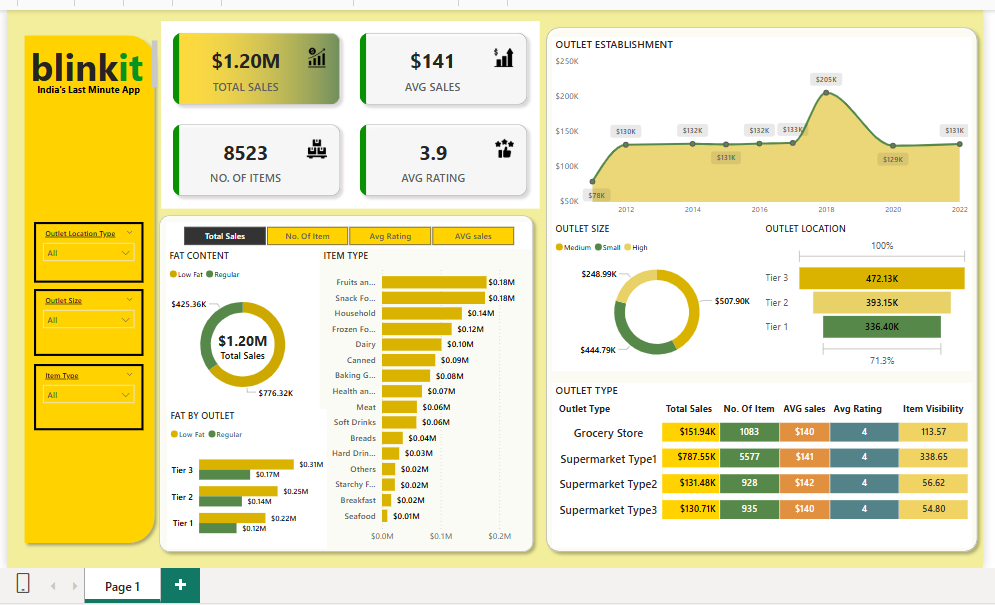

The page's visual inventory and layout, read from the dashboard file:
{"tool":"powerbi","page":{"name":"Page 1","canvas":[1400,800],"ordinal":0},"visuals":[{"type":"shape","box":[15.7,26.8,204.7,746.5],"z":0},{"type":"textbox","box":[28.3,39.4,192.1,78.7],"z":1000},{"type":"textbox","box":[18.9,100.8,196.9,34.6],"z":2000},{"type":"cardVisual","fields":{"Data":["BlinkIT Grocery Data.Total Sales","BlinkIT Grocery Data.AVG sales","BlinkIT Grocery Data.No. Of Item","BlinkIT Grocery Data.Avg Rating"]},"box":[220.5,15.7,543.3,269.3],"z":3000},{"type":"shape","box":[209.4,285,554.3,500.8],"z":4000},{"type":"donutChart","title":"FAT CONTENT","fields":{"Y":["BlinkIT Grocery Data.Total Sales"],"Category":["BlinkIT Grocery Data.Item Fat Content"]},"box":[228.3,343.3,220.5,229.9],"z":5000},{"type":"slicer","fields":{"Values":["MATRICS.MATRICS"]},"box":[228.3,303.9,522.8,39.4],"z":6000},{"type":"cardVisual","fields":{"Data":["BlinkIT Grocery Data.Total Sales"]},"box":[281.9,442.5,111.8,75.6],"z":7000},{"type":"clusteredBarChart","title":"FAT BY OUTLET","fields":{"Y":["BlinkIT Grocery Data.Total Sales"],"Category":["BlinkIT Grocery Data.Outlet Location Type"],"Series":["BlinkIT Grocery Data.Item Fat Content"]},"box":[228.8,572,228.8,200.2],"z":8000},{"type":"barChart","title":"ITEM TYPE","fields":{"Y":["BlinkIT Grocery Data.Total Sales"],"Category":["BlinkIT Grocery Data.Item Type"]},"box":[448.8,343.3,302.4,429.9],"z":9000},{"type":"shape","box":[763.8,15.7,636.2,770.1],"z":10000},{"type":"lineChart","title":"OUTLET ESTABLISHMENT","fields":{"Y":["BlinkIT Grocery Data.Total Sales"],"Category":["BlinkIT Grocery Data.Outlet Establishment Year"]},"box":[781.1,39.4,601.6,264.6],"z":11000},{"type":"donutChart","title":"OUTLET SIZE","fields":{"Y":["BlinkIT Grocery Data.Total Sales"],"Category":["BlinkIT Grocery Data.Outlet Size"]},"box":[781.1,303.9,300.8,214.2],"z":12000},{"type":"funnel","title":"OUTLET LOCATION","fields":{"Y":["Sum(BlinkIT Grocery Data.Sales)"],"Category":["BlinkIT Grocery Data.Outlet Location Type"]},"box":[1081.9,303.9,300.8,214.2],"z":13000},{"type":"pivotTable","title":"OUTLET TYPE","fields":{"Rows":["BlinkIT Grocery Data.Outlet Type"],"Values":["BlinkIT Grocery Data.Total Sales","BlinkIT Grocery Data.No. Of Item","BlinkIT Grocery Data.AVG sales","BlinkIT Grocery Data.Avg Rating","Sum(BlinkIT Grocery Data.Item Visibility)"]},"box":[781.1,535.4,601.6,236.2],"z":14000},{"type":"slicer","fields":{"Values":["BlinkIT Grocery Data.Outlet Location Type"]},"box":[39.1,304.1,156.6,87.3],"z":15000},{"type":"slicer","fields":{"Values":["BlinkIT Grocery Data.Outlet Size"]},"box":[39.1,400.4,156.6,96.3],"z":16000},{"type":"slicer","fields":{"Values":["BlinkIT Grocery Data.Item Type"]},"box":[39.1,507.3,156.6,94.8],"z":17000}]}

Visuals, with their boxes on the page's 1400x800 design canvas (x1, y1, x2, y2). These are canvas units, not pixel positions in the 995x605 screenshot, which may show the page scaled, cropped or inside an application window:
shape: bbox=[16, 27, 220, 773]
textbox: bbox=[28, 39, 220, 118]
textbox: bbox=[19, 101, 216, 135]
cardVisual - BlinkIT Grocery Data.Total Sales x BlinkIT Grocery Data.AVG sales: bbox=[220, 16, 764, 285]
shape: bbox=[209, 285, 764, 786]
"FAT CONTENT" donutChart: bbox=[228, 343, 449, 573]
slicer - MATRICS.MATRICS: bbox=[228, 304, 751, 343]
cardVisual - BlinkIT Grocery Data.Total Sales: bbox=[282, 442, 394, 518]
"FAT BY OUTLET" clusteredBarChart: bbox=[229, 572, 458, 772]
"ITEM TYPE" barChart: bbox=[449, 343, 751, 773]
shape: bbox=[764, 16, 1400, 786]
"OUTLET ESTABLISHMENT" lineChart: bbox=[781, 39, 1383, 304]
"OUTLET SIZE" donutChart: bbox=[781, 304, 1082, 518]
"OUTLET LOCATION" funnel: bbox=[1082, 304, 1383, 518]
"OUTLET TYPE" pivotTable: bbox=[781, 535, 1383, 772]
slicer - BlinkIT Grocery Data.Outlet Location Type: bbox=[39, 304, 196, 391]
slicer - BlinkIT Grocery Data.Outlet Size: bbox=[39, 400, 196, 497]
slicer - BlinkIT Grocery Data.Item Type: bbox=[39, 507, 196, 602]
